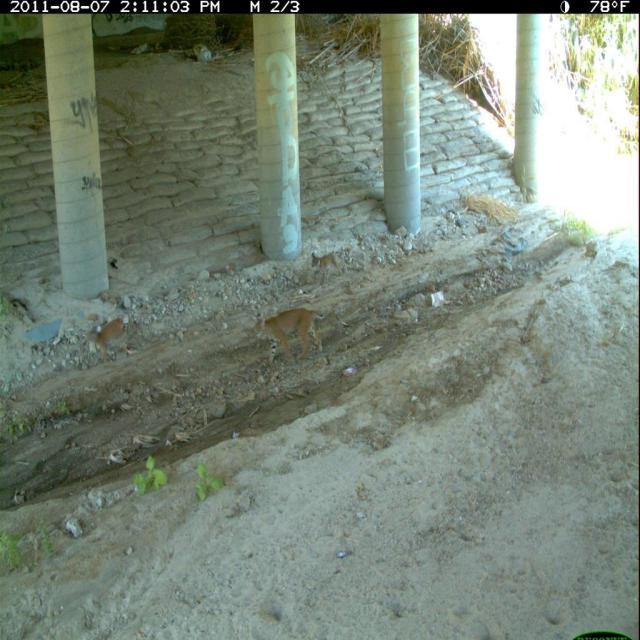bobcat: (251, 303, 330, 373), (84, 314, 135, 370), (306, 246, 347, 289)
